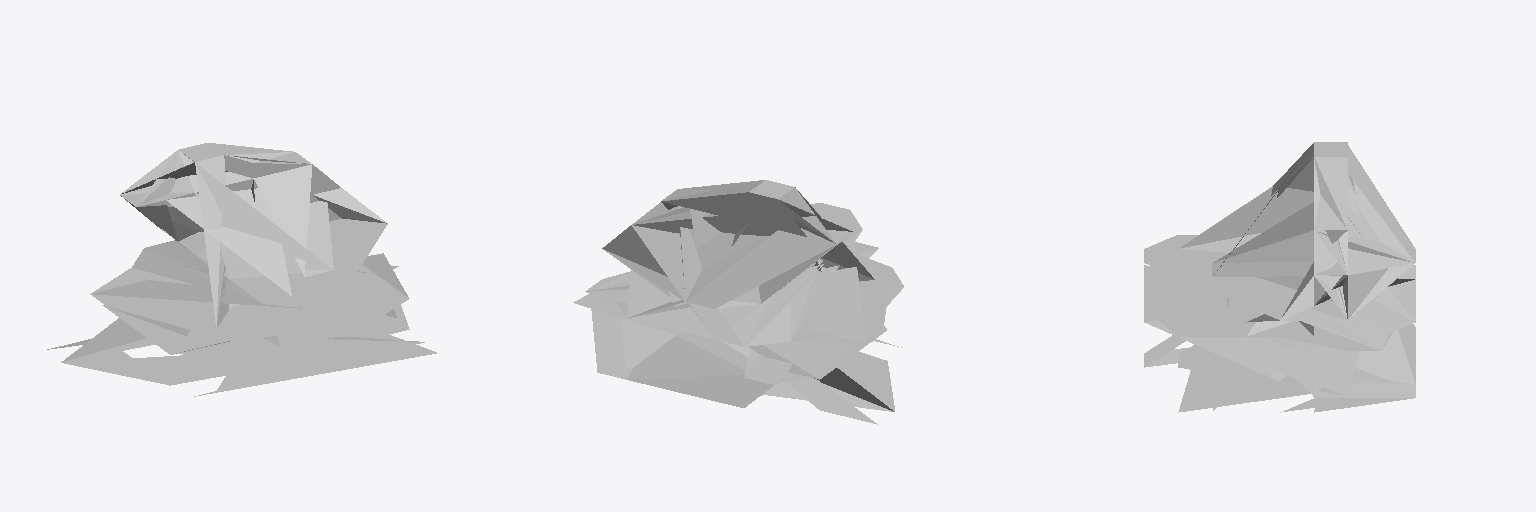
File: Sleep Pod Person 2.obj
3 views of the same model, side by side, from view 1: azimuth 30°, elevation 25°; view 2: azimuth 150°, elevation 25°; view 3: azimuth 270°, elevation 25° (orthographic).
Bounding box in the file's own units: 11 × 6 × 8.